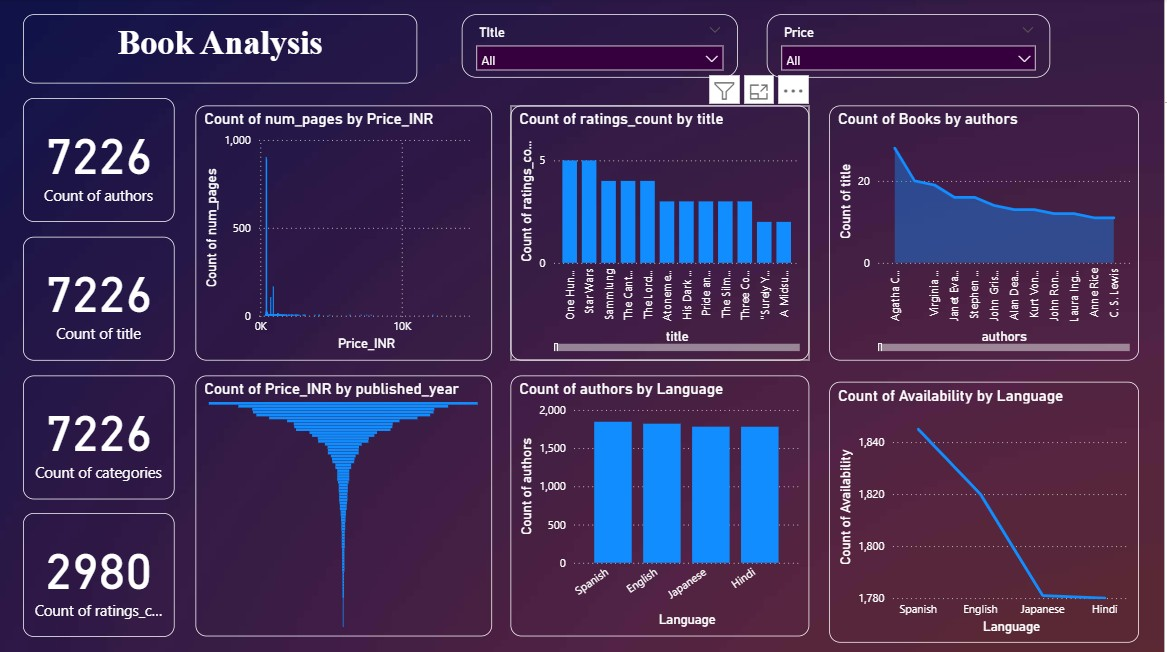

Layout of this report page (visuals, bound fields, positions):
{"tool":"powerbi","page":{"name":"Page 2","canvas":[1280,720],"ordinal":1},"visuals":[{"type":"card","fields":{"Values":["Book Dataset.title"]},"box":[27.7,261.8,166.5,136.3],"z":0},{"type":"card","fields":{"Values":["Book Dataset.categories"]},"box":[27.7,415,166.5,136.3],"z":1000},{"type":"card","fields":{"Values":["Book Dataset.ratings_count"]},"box":[27.7,565.8,166.5,136.3],"z":2000},{"type":"card","fields":{"Values":["Book Dataset.authors"]},"box":[27.7,109.8,166.5,136.3],"z":3000},{"type":"textbox","box":[27.7,18.1,433.1,76],"z":4000},{"type":"slicer","fields":{"Values":["Book Dataset.title"]},"box":[509.1,18.1,302.8,70],"z":5000},{"type":"slicer","fields":{"Values":["Book Dataset.Price_INR"]},"box":[844.5,18.1,311.3,70],"z":6000},{"type":"lineStackedColumnComboChart","fields":{"Category":["Book Dataset.Price_INR"],"Y":["Book Dataset.num_pages"]},"box":[216.8,118,325.2,279.9],"z":7000},{"type":"columnChart","fields":{"Category":["Book Dataset.title"],"Y":["Book Dataset.ratings_count"]},"box":[562.6,118,328,279.9],"z":8000},{"type":"areaChart","title":"Count of Books  by authors","fields":{"Y":["Book Dataset.title"],"Category":["Book Dataset.authors"]},"box":[912.5,118,340.3,279.9],"z":9000},{"type":"funnel","fields":{"Category":["Book Dataset.published_year"],"Y":["Book Dataset.Price_INR"]},"box":[216.8,414.4,325.2,286.8],"z":10000},{"type":"clusteredColumnChart","fields":{"Category":["updated_book1.Language"],"Y":["updated_book1.authors"]},"box":[562.6,414.4,328,286.8],"z":11000},{"type":"lineChart","fields":{"Category":["updated_book1.Language"],"Y":["updated_book1.Availability"]},"box":[912.5,421.3,340.3,286.8],"z":12000}]}

Visuals, with their boxes in screenshot pixels (x1, y1, x2, y2), scaled from the page's 1280x720 canvas onto the 1167x652 screenshot:
card - Book Dataset.title: [25, 237, 177, 361]
card - Book Dataset.categories: [25, 376, 177, 499]
card - Book Dataset.ratings_count: [25, 512, 177, 636]
card - Book Dataset.authors: [25, 99, 177, 223]
textbox: [25, 16, 420, 85]
slicer - Book Dataset.title: [464, 16, 740, 80]
slicer - Book Dataset.Price_INR: [770, 16, 1054, 80]
lineStackedColumnComboChart - Book Dataset.Price_INR x Book Dataset.num_pages: [198, 107, 494, 360]
columnChart - Book Dataset.title x Book Dataset.ratings_count: [513, 107, 812, 360]
"Count of Books  by authors" areaChart: [832, 107, 1142, 360]
funnel - Book Dataset.published_year x Book Dataset.Price_INR: [198, 375, 494, 635]
clusteredColumnChart - updated_book1.Language x updated_book1.authors: [513, 375, 812, 635]
lineChart - updated_book1.Language x updated_book1.Availability: [832, 382, 1142, 641]
